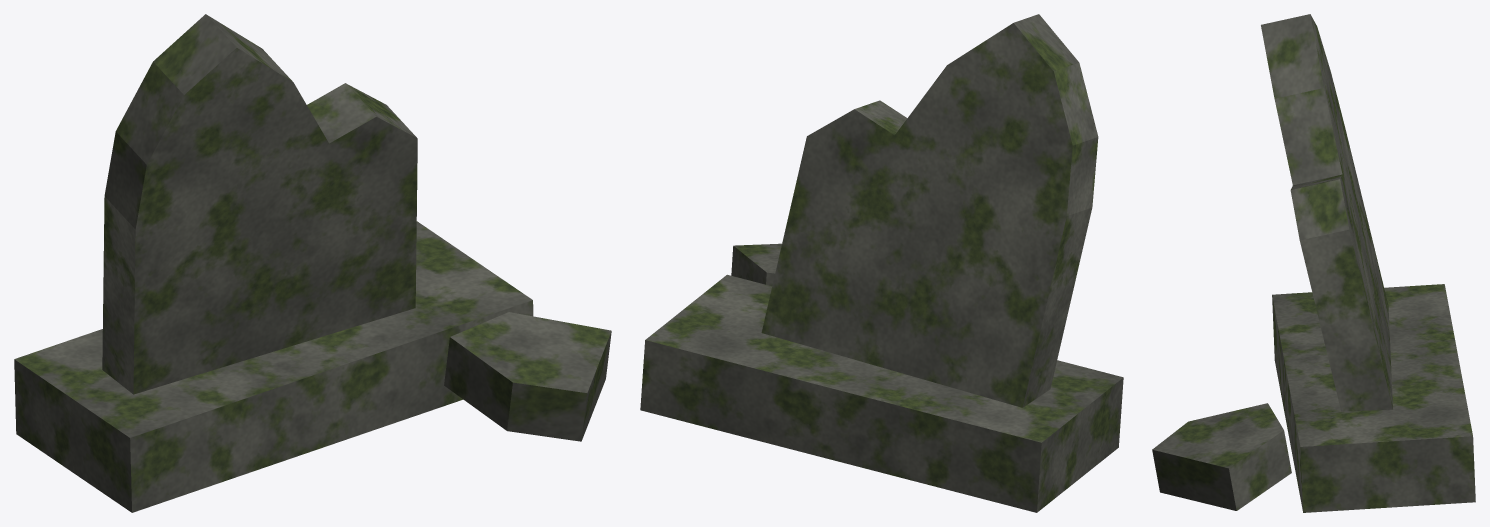
Rendered from lapida_rota.obj.
3 views of the same model, side by side, from view 1: azimuth 30°, elevation 25°; view 2: azimuth 150°, elevation 25°; view 3: azimuth 270°, elevation 25° (orthographic). The views are drawn at different scales.
Visible parts, largest first — view 1: Lapida, Base, Pedazo; view 2: Lapida, Base, Pedazo; view 3: Base, Lapida, Pedazo.
Boxes of the visible parts, box(x1,y1,x2,y2) form: Lapida: box(102, 14, 417, 394); Base: box(14, 221, 533, 512); Pedazo: box(444, 312, 611, 441); Lapida: box(761, 14, 1098, 407); Base: box(640, 274, 1123, 512); Pedazo: box(731, 243, 781, 286); Base: box(1272, 284, 1475, 512); Lapida: box(1261, 14, 1392, 411); Pedazo: box(1152, 403, 1291, 510).
Size of the model in its own units: 0.8896 by 0.8772 by 0.6354.
Materials: 1 (1 with a texture image).
